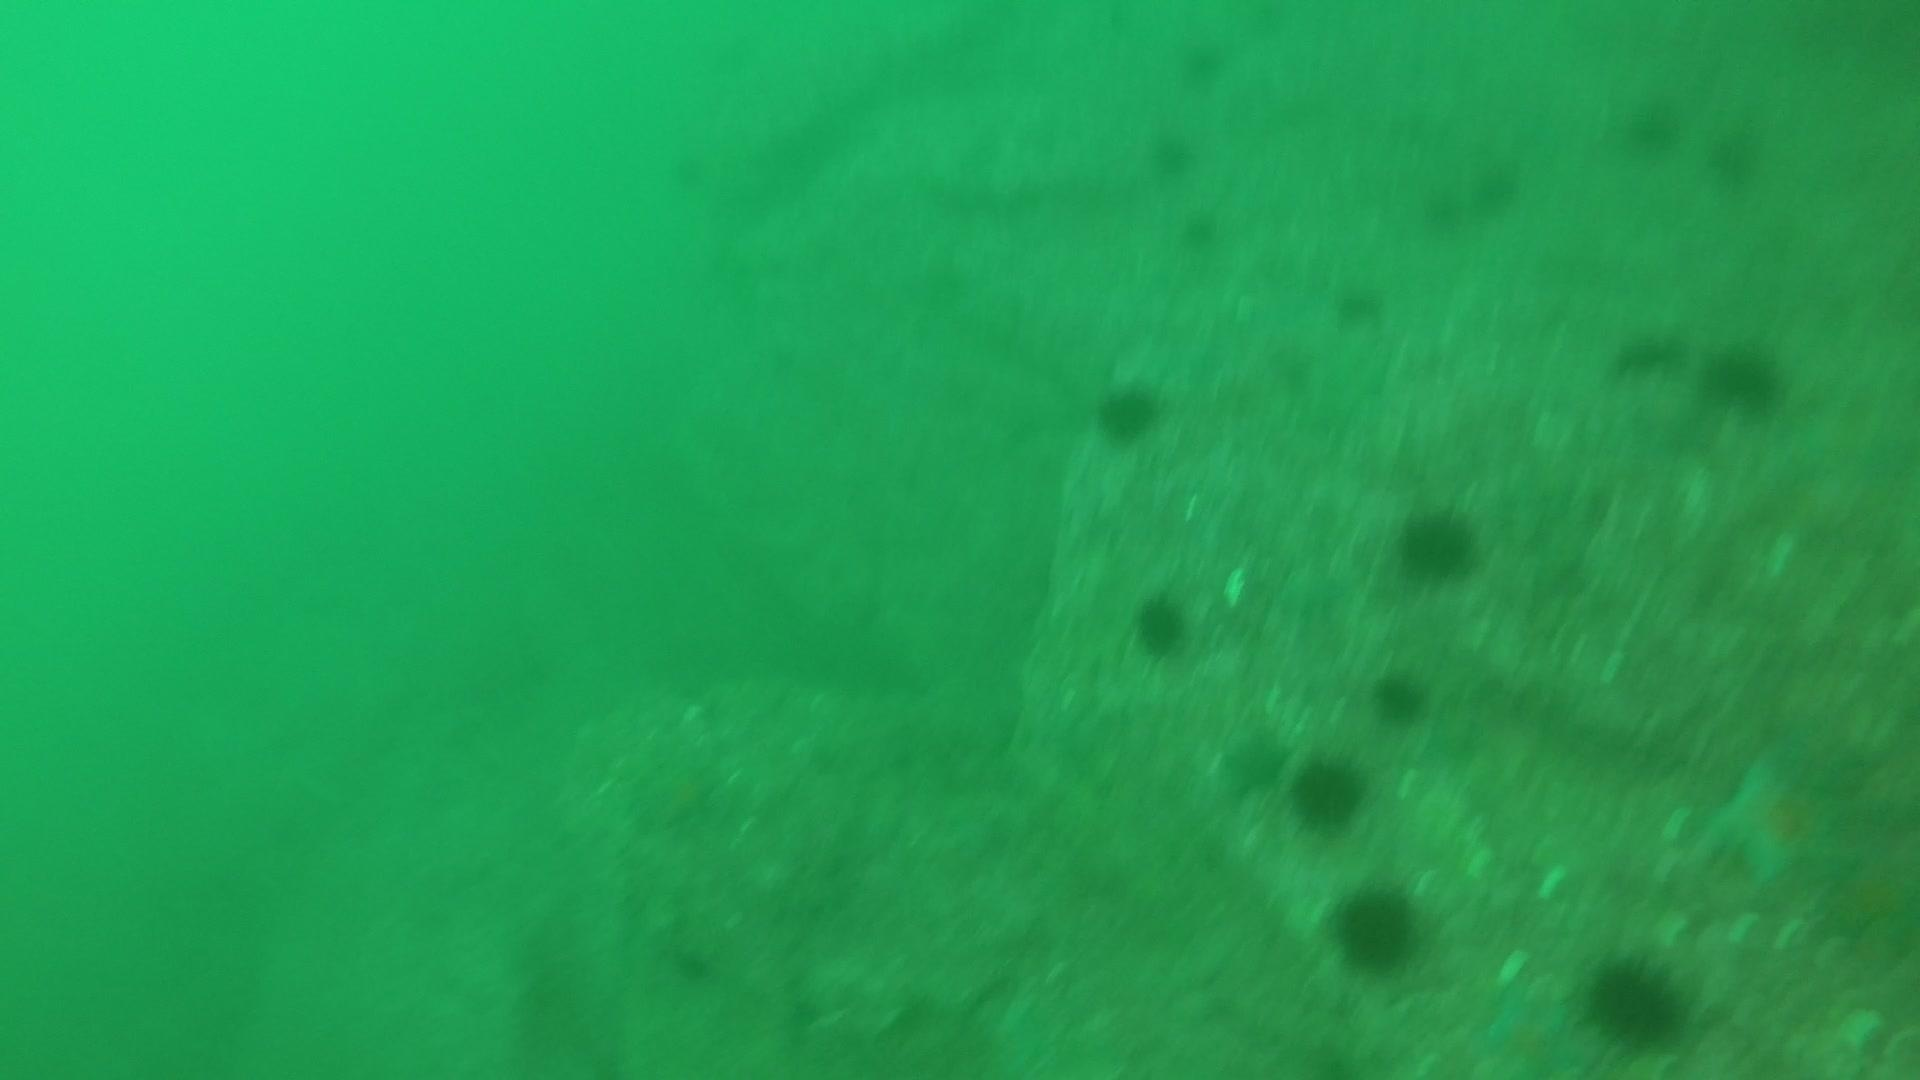echinus: (1580, 951, 1691, 1052), (1327, 880, 1425, 977), (1391, 501, 1484, 585), (1284, 752, 1371, 833), (1698, 338, 1789, 415), (1091, 375, 1167, 447), (1218, 725, 1290, 796), (1127, 588, 1195, 659), (1618, 90, 1687, 157), (1702, 119, 1768, 189), (1609, 323, 1681, 382), (1366, 665, 1433, 727), (1465, 162, 1524, 223), (1329, 278, 1389, 332), (1418, 179, 1473, 236), (1174, 34, 1232, 88), (1145, 125, 1201, 179), (1175, 206, 1226, 256)
starfish: (1698, 746, 1850, 891), (1462, 978, 1602, 1077), (1816, 843, 1917, 951), (629, 752, 725, 833)
